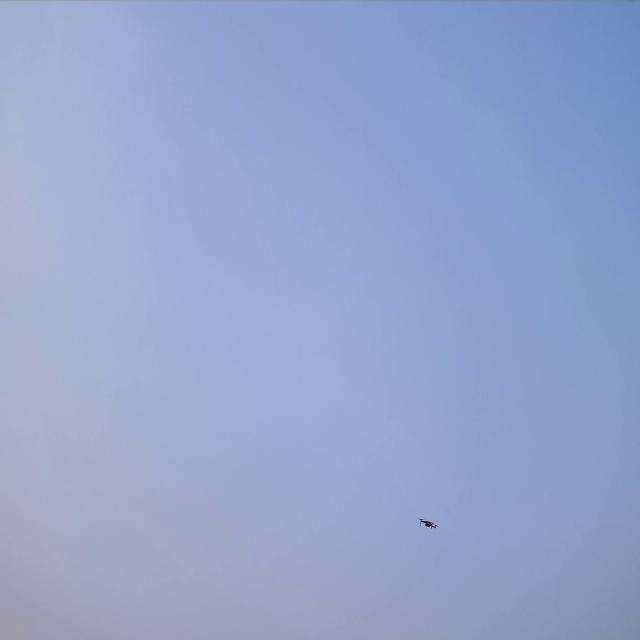UAV: (420, 519, 437, 528)
